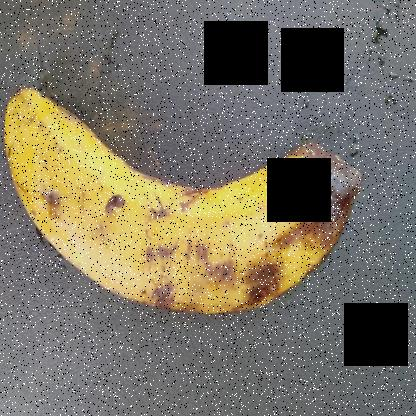overripe: (5, 81, 270, 333)
rotten: (207, 126, 368, 313)
